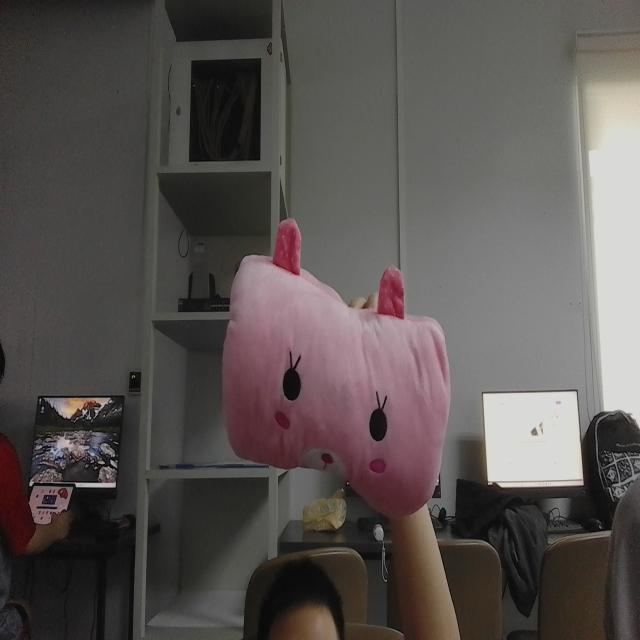pinkpillow: (221, 209, 453, 530)
